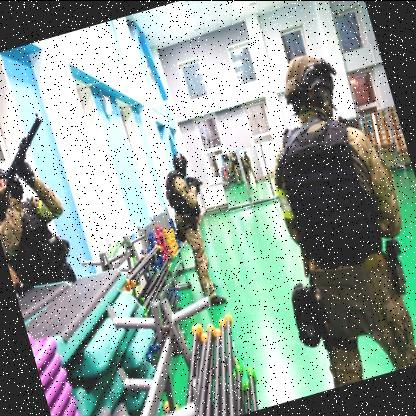rifle: (0, 112, 68, 222), (185, 168, 206, 192)
